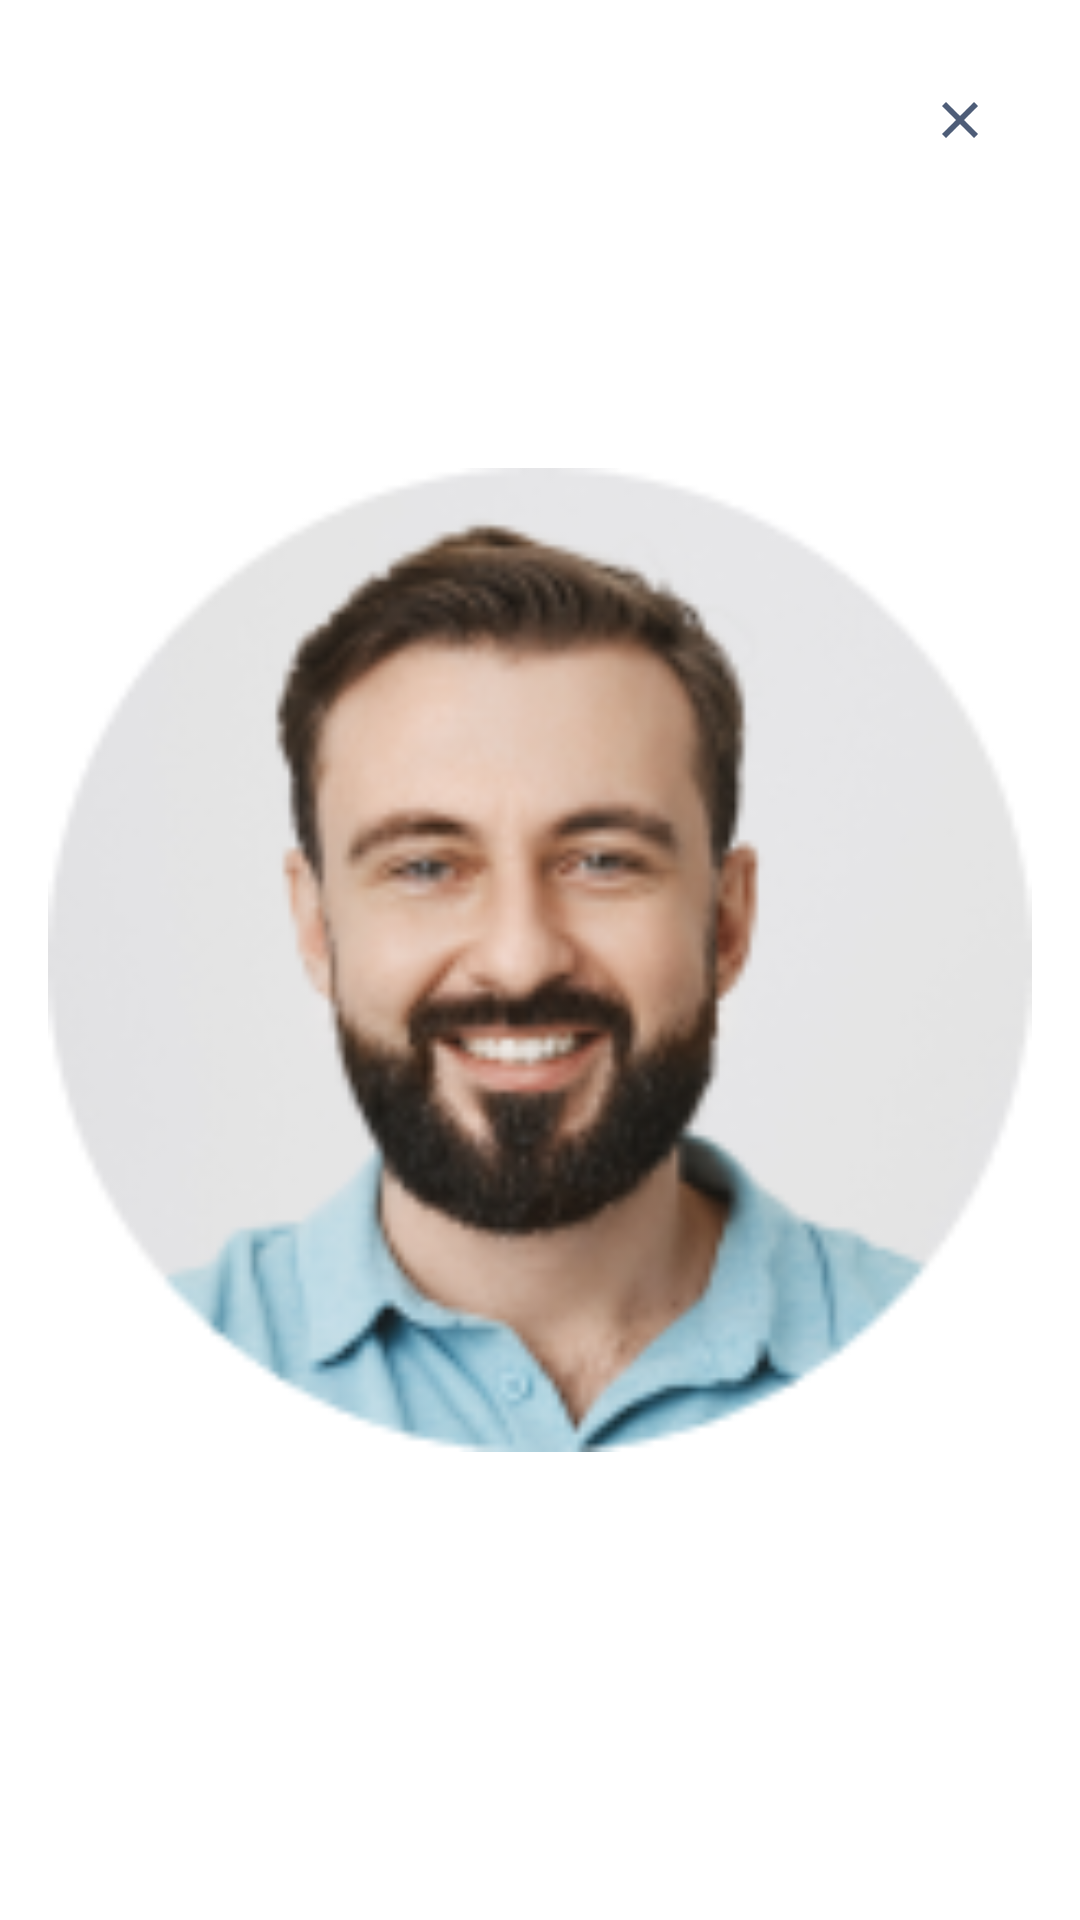

Screen size 1080 x 1920. Icon name, then its center in pixels as (x=x, y=y):
close: (x=960, y=120)
